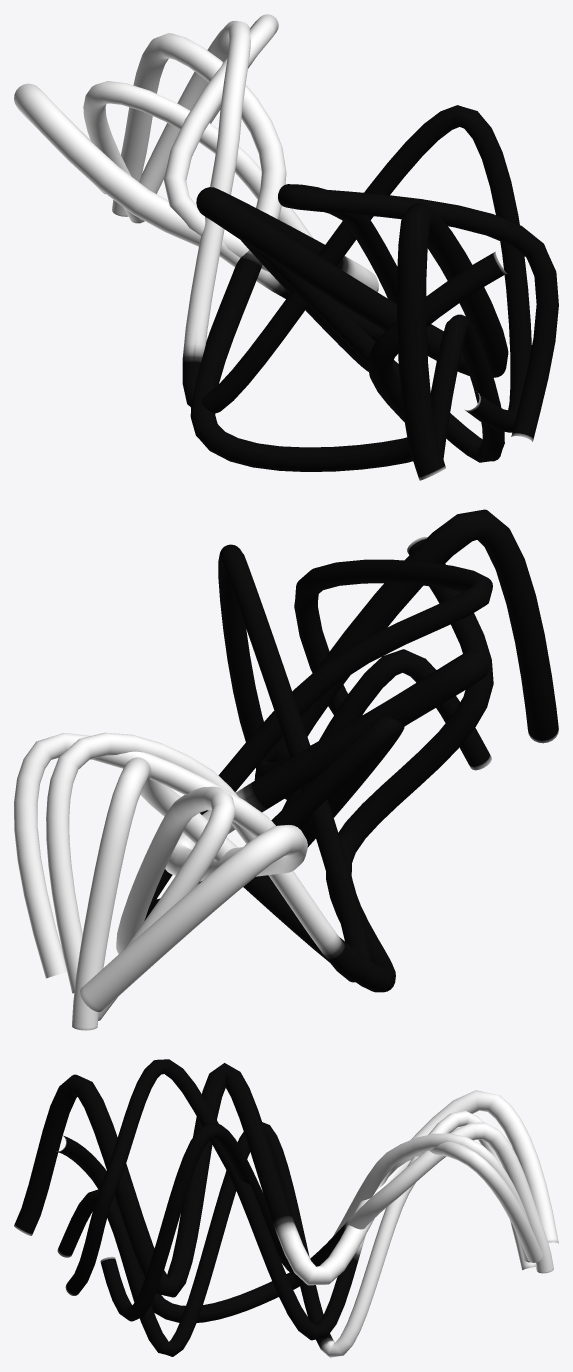
The model's file is role_zengpotian_battle.glb.
The picture shows the model from 3 angles, top to bottom: view 1: azimuth 30°, elevation 25°; view 2: azimuth 150°, elevation 25°; view 3: azimuth 270°, elevation 25°; orthographic projection. The views are drawn at different scales.
Visible parts, largest first — view 1: eff_mesh_j_zengpotian_01; view 2: eff_mesh_j_zengpotian_01; view 3: eff_mesh_j_zengpotian_01.
Boxes of the visible parts, <box> form: eff_mesh_j_zengpotian_01: <box>14,14,558,480</box>; eff_mesh_j_zengpotian_01: <box>14,509,558,1030</box>; eff_mesh_j_zengpotian_01: <box>14,1059,558,1357</box>.
Bounding box in the file's own units: 33.57 × 38.41 × 78.92.
1 material, 1 textured.
